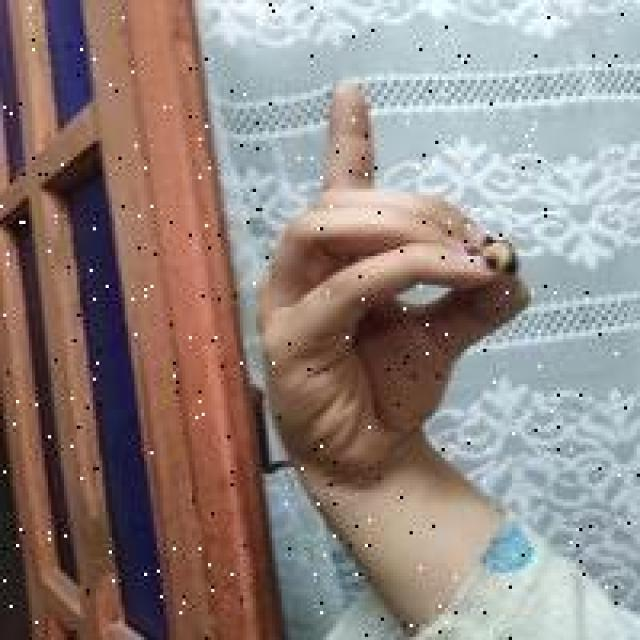D: (251, 72, 533, 498)
